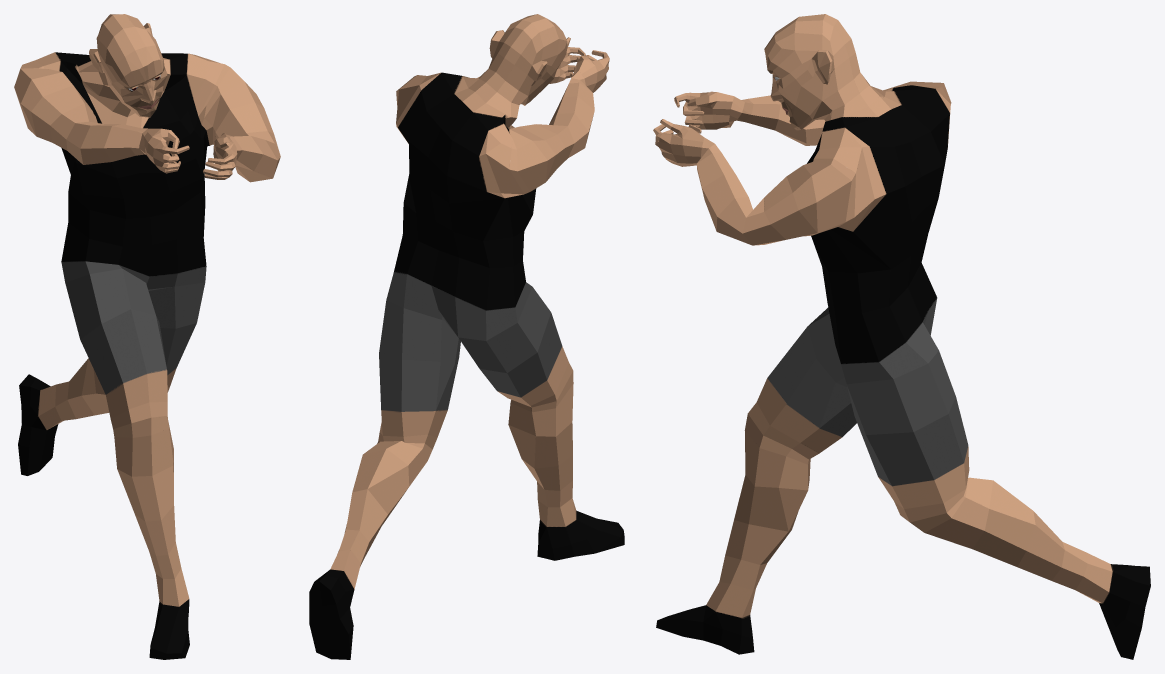
The model's file is PlayerWalk(18).obj.
3 renders of one model, left to right at view 1: azimuth 30°, elevation 25°; view 2: azimuth 150°, elevation 25°; view 3: azimuth 270°, elevation 25°, orthographic. The views are drawn at different scales.
Parts seen in each view (by area): view 1: Plane002; view 2: Plane002; view 3: Plane002.
Part boxes in pixels (x1=…): Plane002: x1=14, y1=14, x2=280, y2=659; Plane002: x1=309, y1=14, x2=624, y2=659; Plane002: x1=653, y1=14, x2=1150, y2=659.
Bounding box in the file's own units: 565 × 1647 × 1187.
